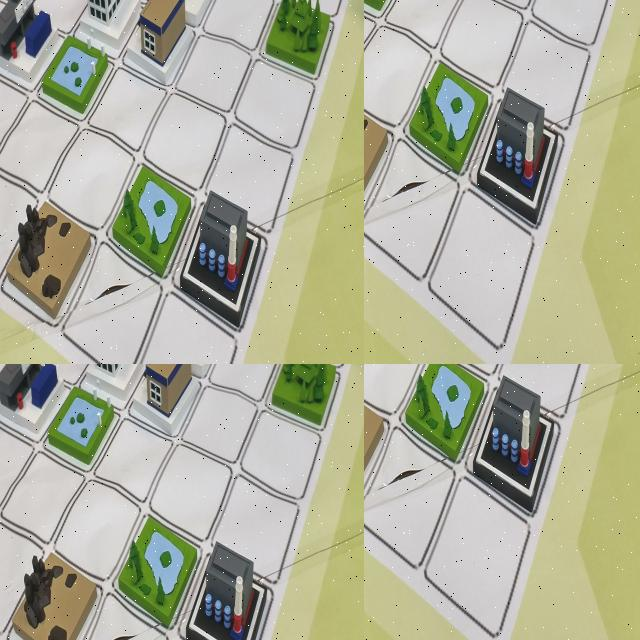bus_stop: (452, 150, 513, 250), (36, 56, 90, 154), (364, 364, 403, 418), (0, 575, 29, 640)
factory: (474, 366, 562, 526), (0, 159, 26, 252), (240, 606, 294, 640), (364, 0, 403, 42)
fish_pool: (182, 60, 234, 135), (364, 364, 405, 416), (364, 0, 386, 43)
forest: (555, 364, 629, 418), (598, 0, 640, 45), (0, 583, 29, 640), (0, 0, 23, 33)
gogo_shop: (136, 125, 191, 212), (498, 0, 552, 53), (0, 503, 25, 591), (364, 364, 397, 407)
research_build: (269, 534, 327, 636), (367, 364, 435, 423), (169, 0, 222, 52), (367, 0, 412, 36)
restaurant: (487, 2, 550, 105), (32, 217, 94, 317), (419, 364, 494, 426), (0, 483, 30, 576)
silicate_rock: (364, 368, 409, 507), (35, 0, 85, 38), (0, 587, 19, 640)
volunteer_center: (84, 0, 135, 73), (456, 364, 511, 412), (189, 596, 242, 640), (402, 0, 447, 43)
wet_land: (398, 364, 486, 460), (434, 0, 485, 99), (217, 549, 268, 628), (0, 0, 19, 29)
